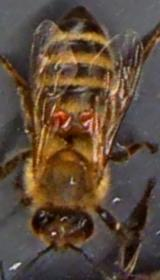varroa_mite: (48, 102, 72, 138), (76, 106, 98, 130)
